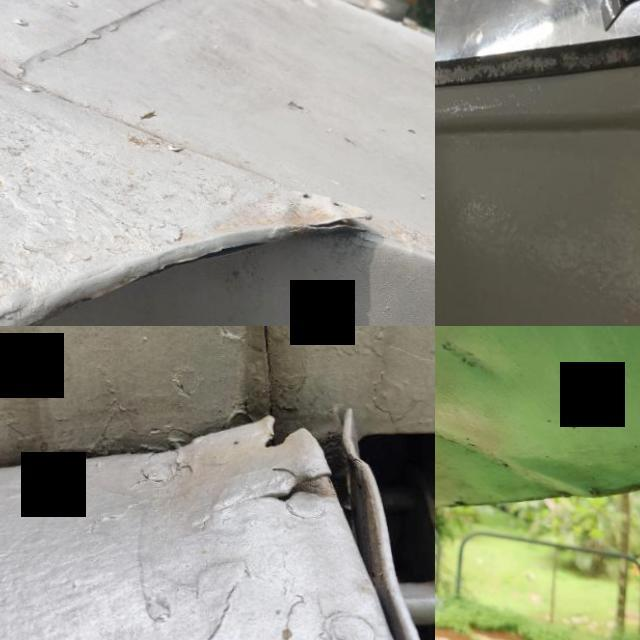Crack: (244, 452, 340, 520), (292, 200, 376, 242), (0, 282, 36, 326)
Dent: (435, 376, 623, 523), (435, 326, 524, 399)
